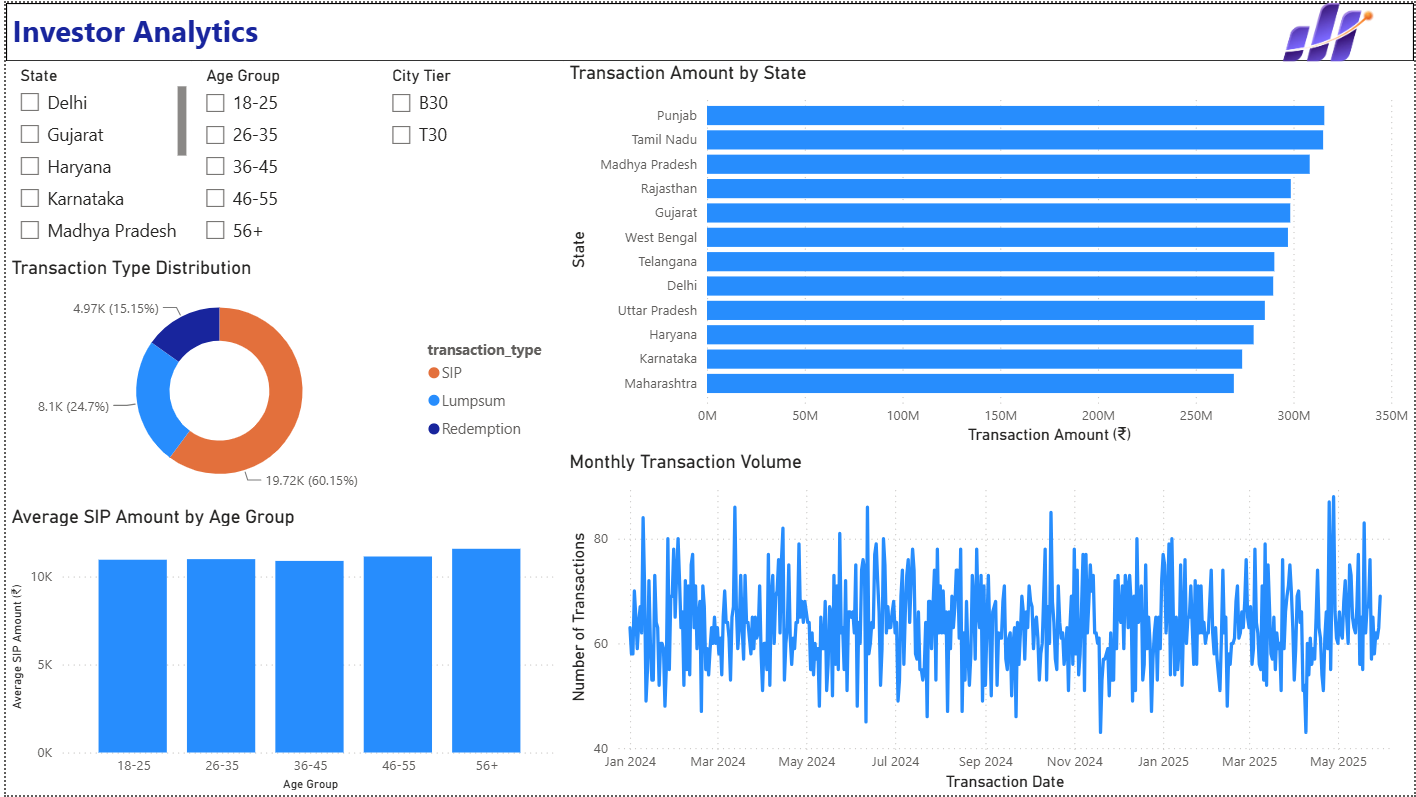

What the dashboard file says about the page in this screenshot:
{"tool":"powerbi","page":{"name":"Investor Analytics","canvas":[1280,720],"ordinal":2},"visuals":[{"type":"textbox","box":[0,0,1280,53],"z":0},{"type":"slicer","fields":{"Values":["Investor Transactions.state"]},"box":[0,53,169,177],"z":1000},{"type":"slicer","fields":{"Values":["Investor Transactions.age_group"]},"box":[169,53,169,177],"z":2000},{"type":"slicer","fields":{"Values":["Investor Transactions.city_tier"]},"box":[338,53,169,177],"z":3000},{"type":"clusteredBarChart","title":"Transaction Amount by State","fields":{"Category":["Investor Transactions.state"],"Y":["Sum(Investor Transactions.amount_inr)"]},"box":[507,53,773,353],"z":4000},{"type":"donutChart","title":"Transaction Type Distribution","fields":{"Y":["CountNonNull(Investor Transactions.investor_id)"],"Category":["Investor Transactions.transaction_type"]},"box":[0,230,507,226],"z":5000},{"type":"clusteredColumnChart","title":"Average SIP Amount by Age Group","fields":{"Category":["Investor Transactions.age_group"],"Y":["Avg(Investor Transactions.amount_inr)"]},"box":[0,456,507,264],"z":6000},{"type":"lineChart","title":"Monthly Transaction Volume","fields":{"Category":["Investor Transactions.transaction_date"],"Y":["CountNonNull(Investor Transactions.investor_id)"]},"box":[507,406,773,314],"z":7000},{"type":"image","box":[1106,0,174,53],"z":7001}]}

Visuals, with their boxes in screenshot pixels (x1, y1, x2, y2), scaled from the page's 1280x720 canvas onto the 1416x797 screenshot:
textbox: bbox=[0, 0, 1415, 59]
slicer - Investor Transactions.state: bbox=[0, 59, 187, 255]
slicer - Investor Transactions.age_group: bbox=[187, 59, 374, 255]
slicer - Investor Transactions.city_tier: bbox=[374, 59, 561, 255]
"Transaction Amount by State" clusteredBarChart: bbox=[561, 59, 1415, 449]
"Transaction Type Distribution" donutChart: bbox=[0, 255, 561, 505]
"Average SIP Amount by Age Group" clusteredColumnChart: bbox=[0, 505, 561, 796]
"Monthly Transaction Volume" lineChart: bbox=[561, 449, 1415, 796]
image: bbox=[1224, 0, 1415, 59]
